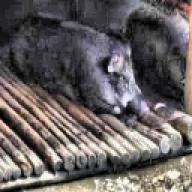boar: (0, 11, 182, 147), (123, 5, 192, 111)
